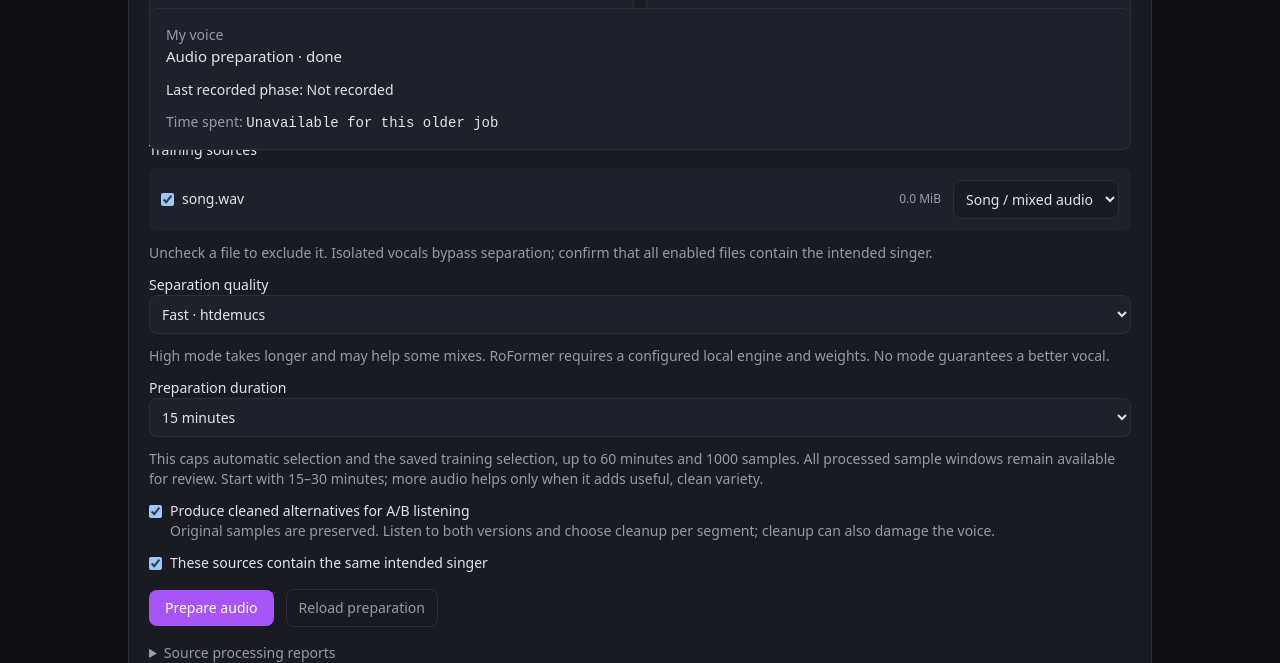
Test: saves a changed duration budget with the existing samples without repeating preparation
(page scrolled)
Step 1. Select "30 minutes" in the dropdown labelled "Preparation duration" → (640, 417), box [149,398,1131,436]
(page scrolled)
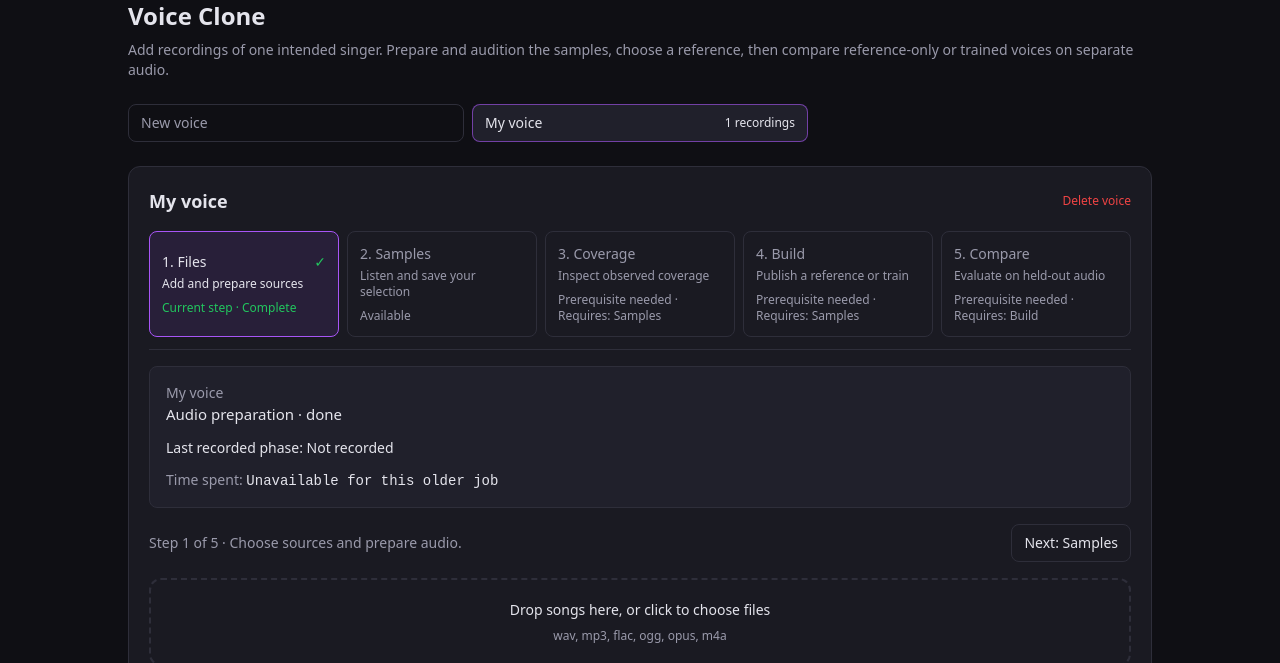
Step 2. Click the tab with aria-label "Coverage" → (640, 284), box [545,231,735,337]
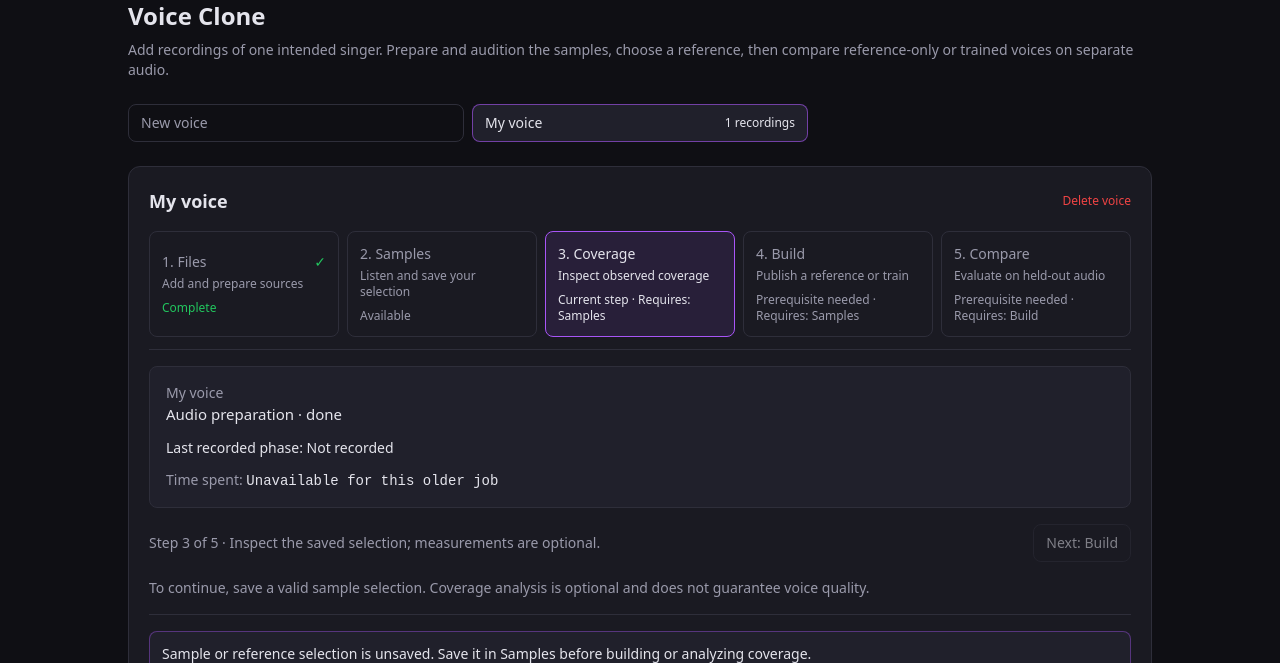
Step 3. Click the tab with aria-label "Build" → (838, 284), box [743,231,933,337]
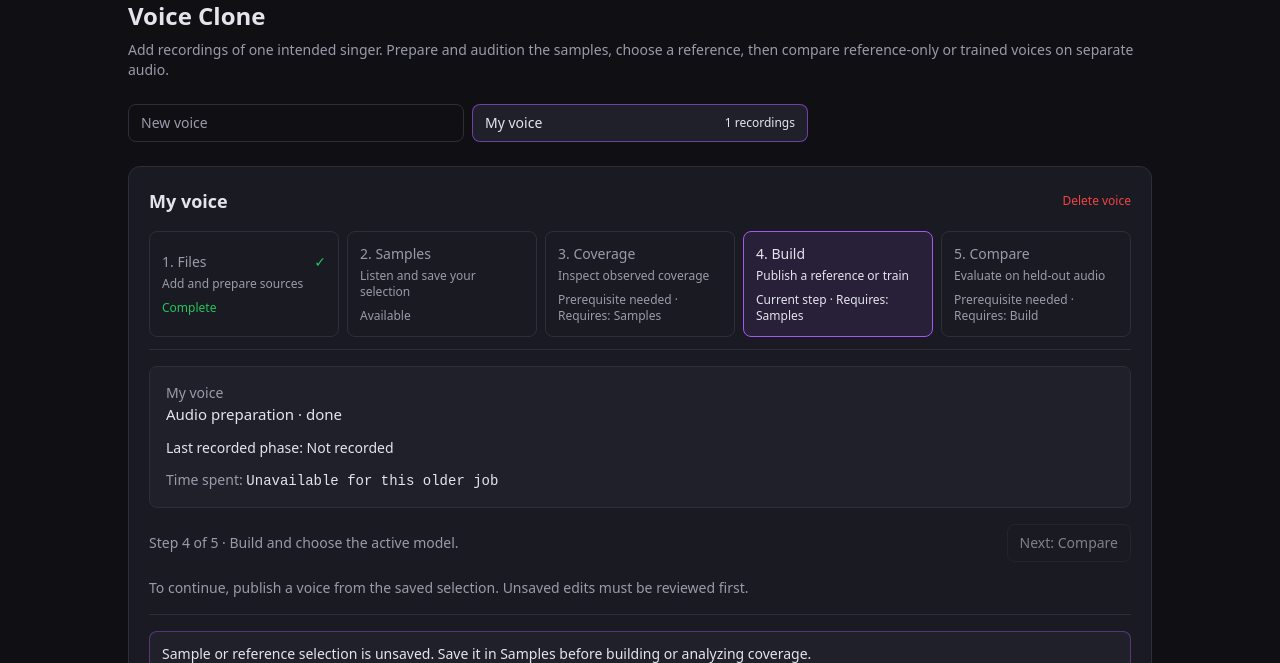
Step 4. Click the tab "2. Samples Listen and save your selection Available" → (442, 284), box [347,231,537,337]
(page scrolled)
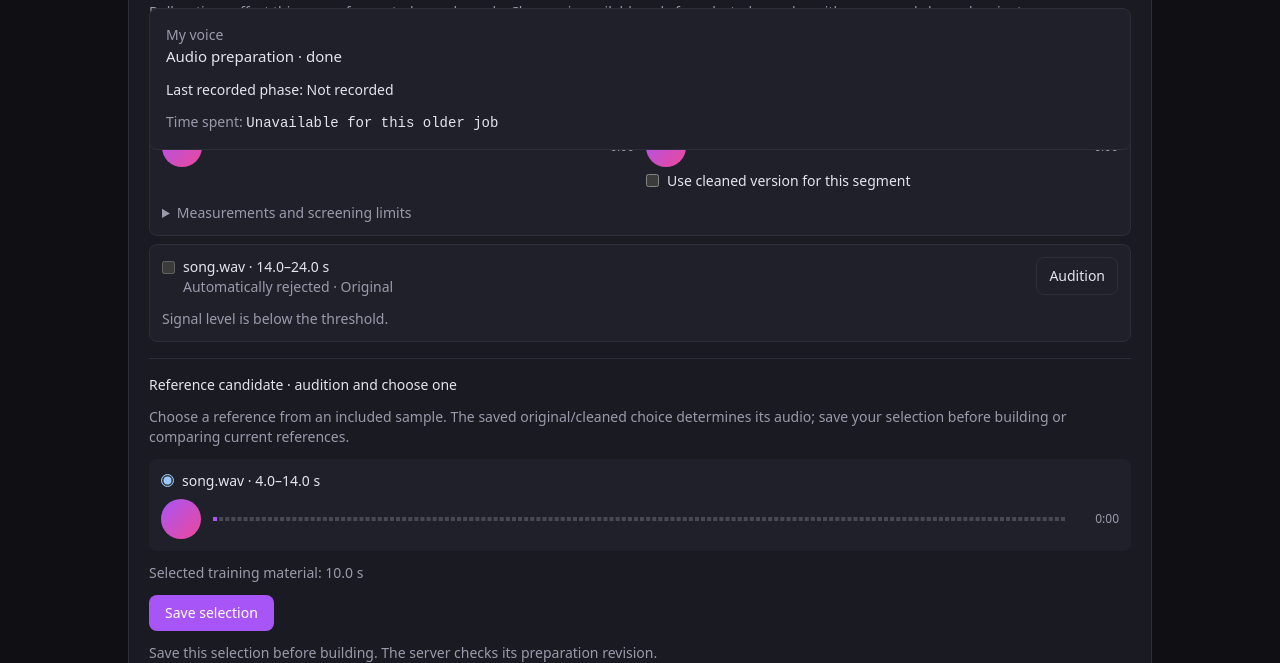
Now the button "Save selection" is enabled
Step 5. Click the button "Save selection" → (211, 612), box [149,594,274,630]
(page scrolled)
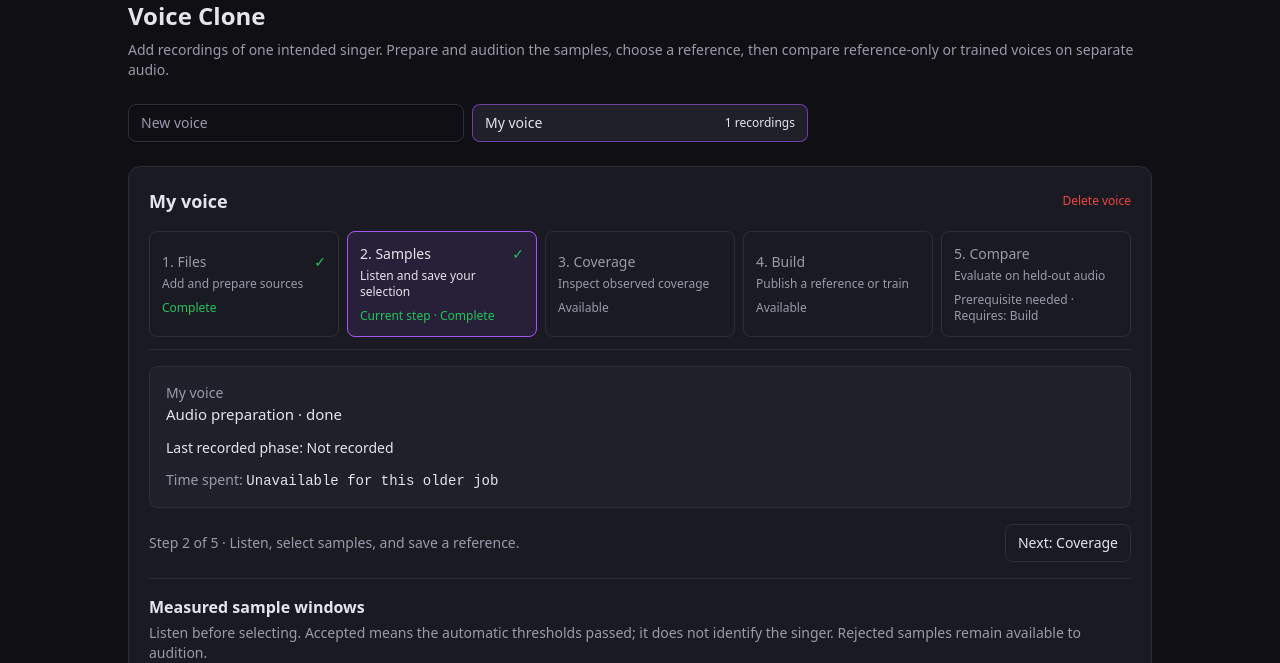
Step 6. Click the tab "4. Build Publish a reference or train Available" → (838, 284), box [743,231,933,337]
(page scrolled)
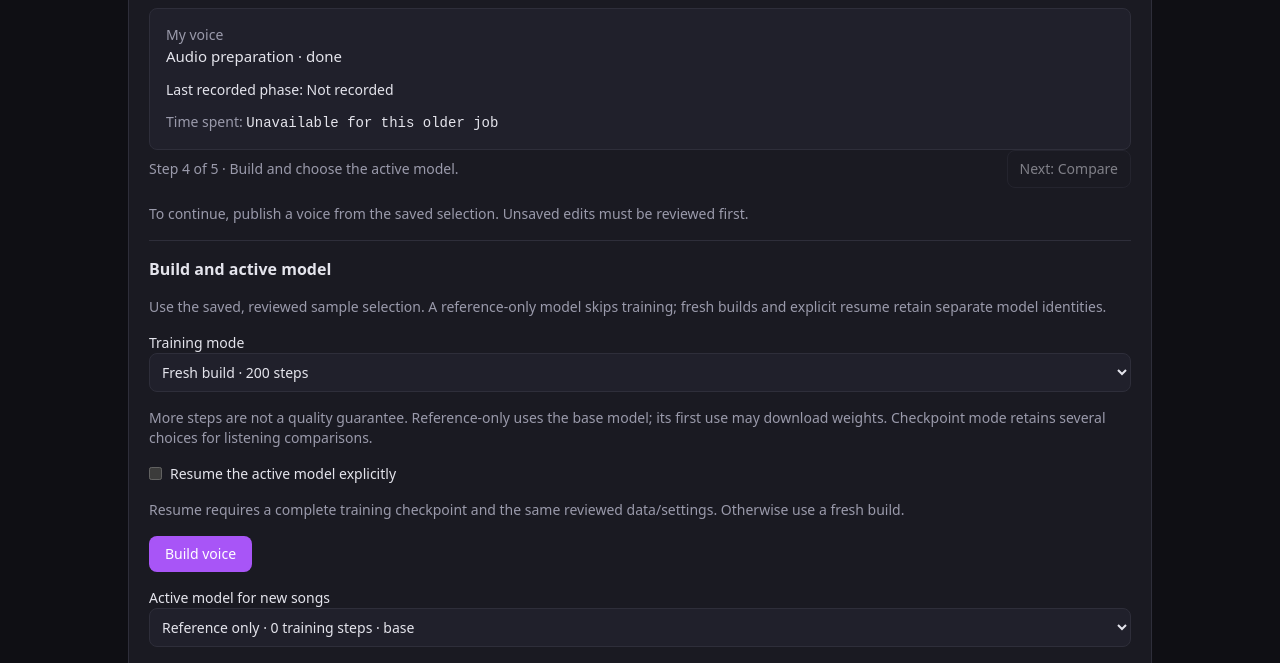
Now the button "Build voice" is enabled, box [149,536,252,572]
